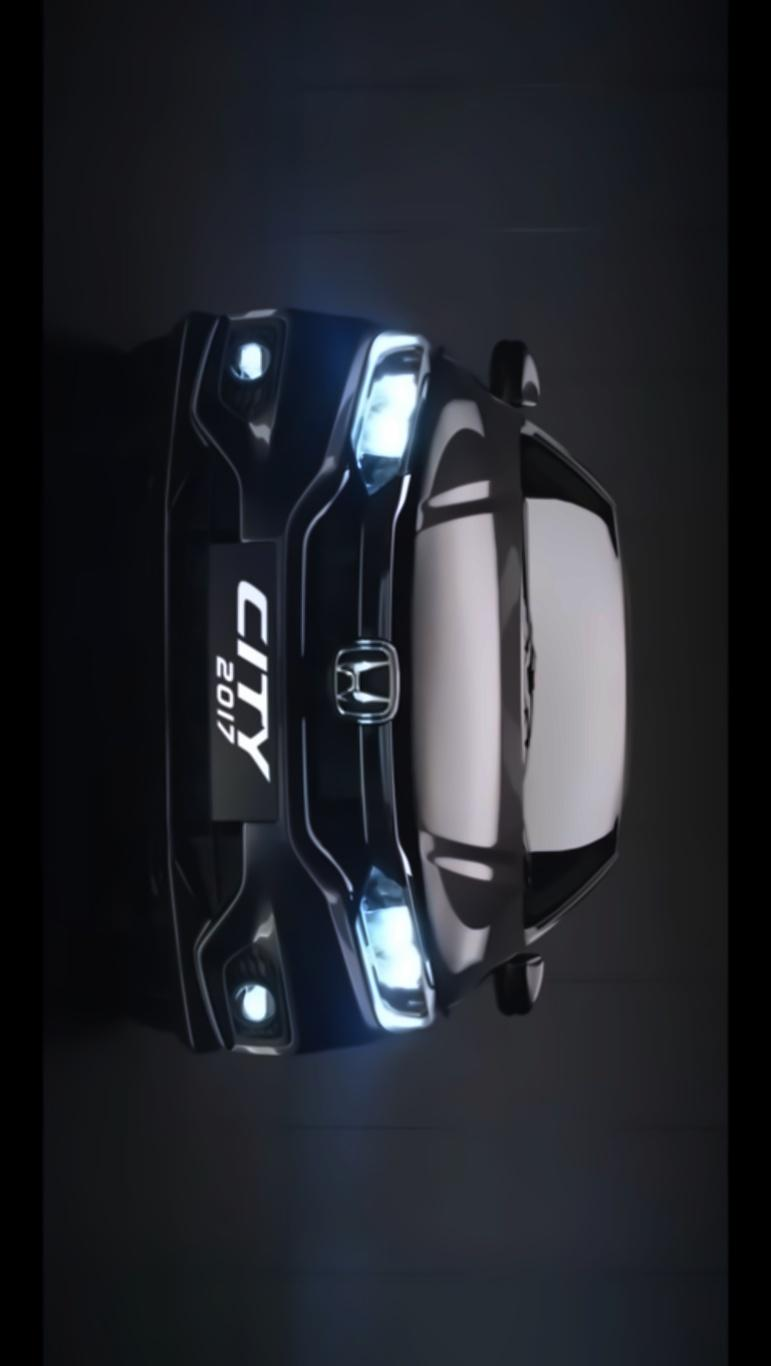Car hood: (388, 344, 529, 1011)
Front bumper: (132, 288, 354, 1073)
Headlight - -L-: (340, 850, 445, 1044)
Headlight - -R-: (340, 312, 447, 504)
Side mirror - -L-: (478, 946, 558, 1026)
Side mirror - -R-: (478, 328, 565, 424)
